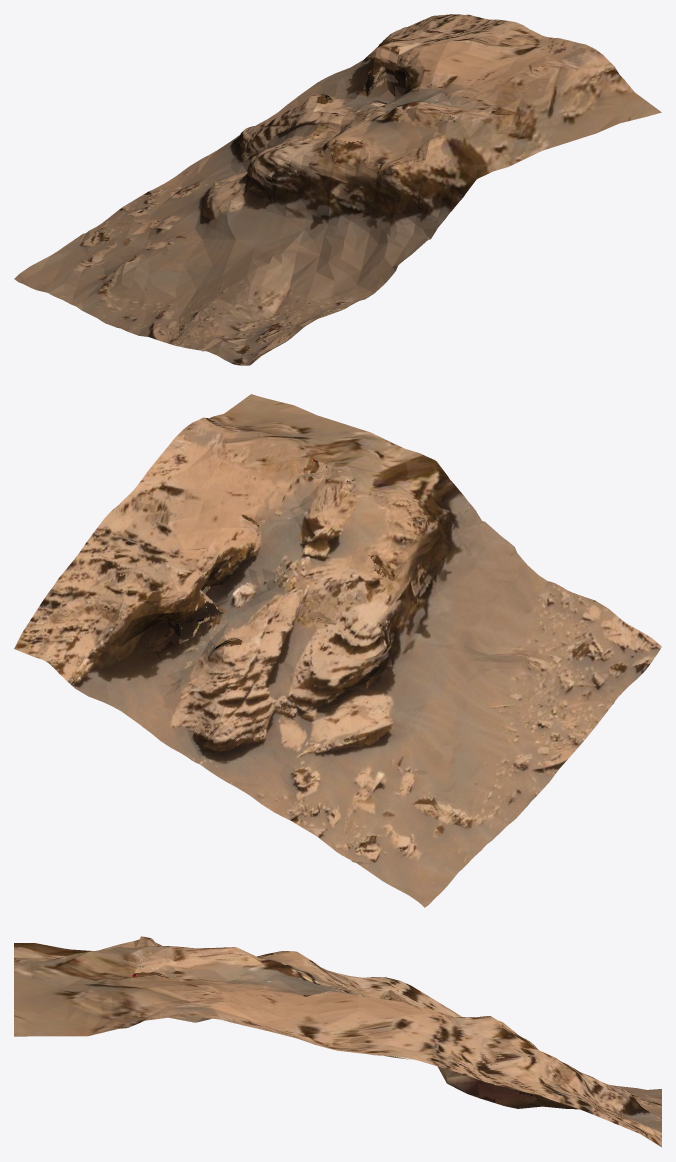
3 views of the same model, one above another, from view 1: azimuth 30°, elevation 25°; view 2: azimuth 150°, elevation 25°; view 3: azimuth 270°, elevation 25° (orthographic). The views are drawn at different scales.
Size of the model in its own units: 1.04 by 0.6183 by 1.04.
3 materials, 3 textured.
